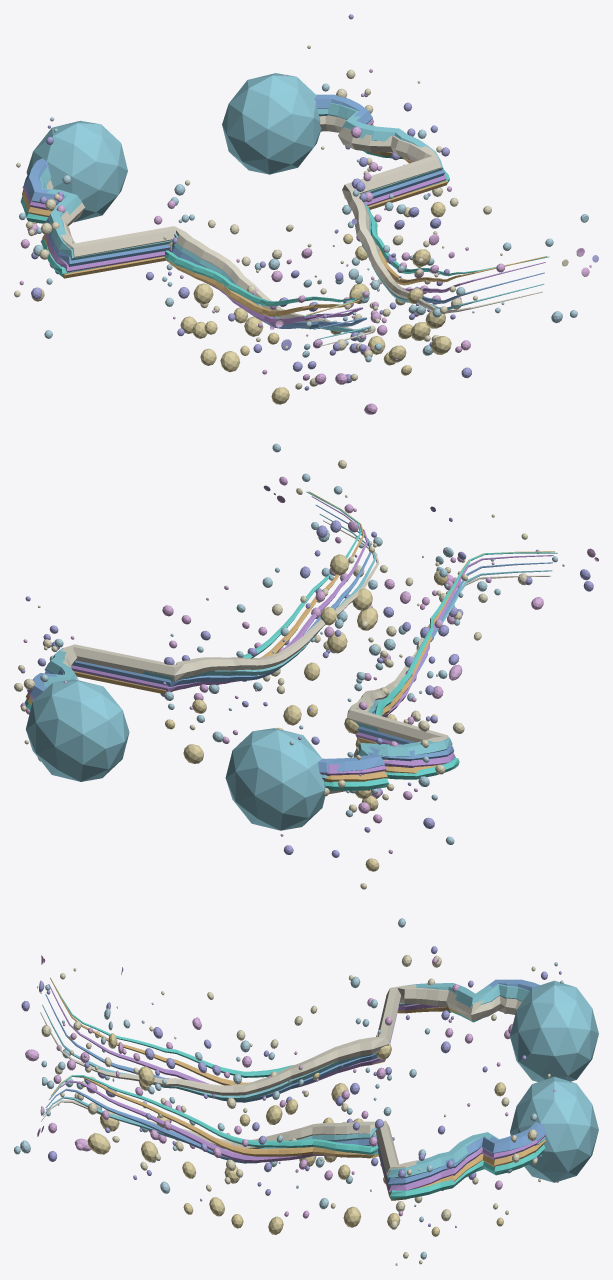
File: special-comet-fantasy.glb
3 renders of one model, top to bottom at view 1: azimuth 30°, elevation 25°; view 2: azimuth 150°, elevation 25°; view 3: azimuth 270°, elevation 25°, orthographic. The views are drawn at different scales.
Parts seen in each view (by area): view 1: special-comet-fantasy; view 2: special-comet-fantasy; view 3: special-comet-fantasy.
Part boxes in pixels (x1,y1,x2,y2): special-comet-fantasy: (14, 14, 598, 414); special-comet-fantasy: (14, 443, 598, 889); special-comet-fantasy: (14, 918, 598, 1265).
Bounding box in the file's own units: 0.5341 × 0.288 × 0.6546.
